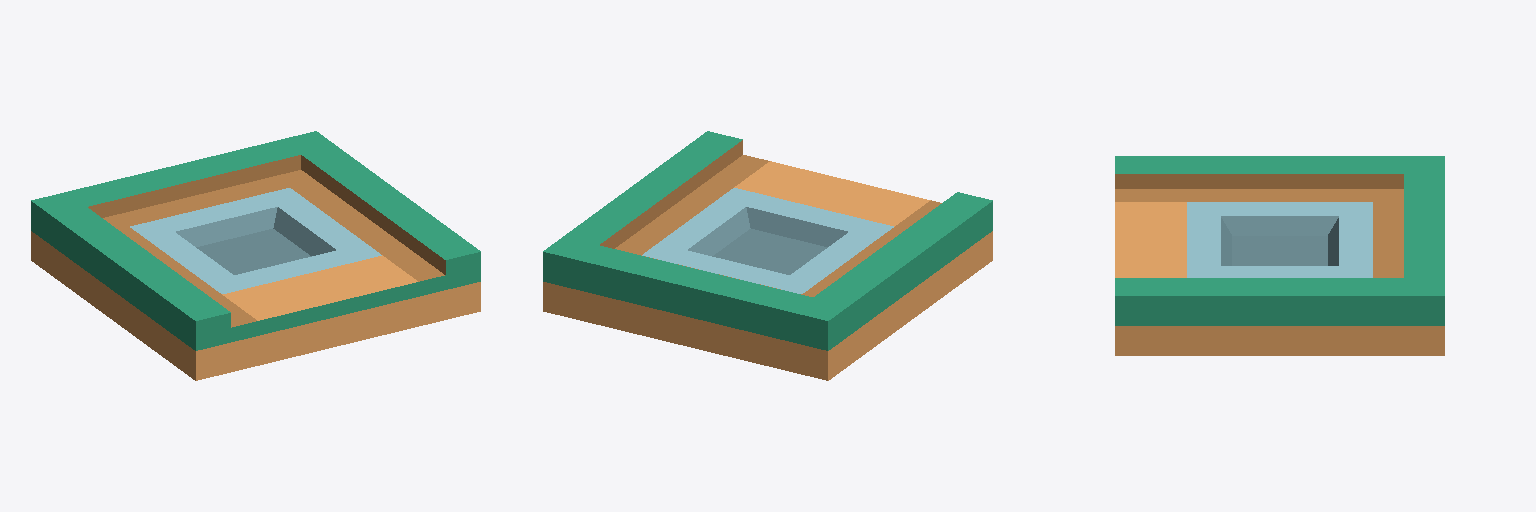
File: tile_endSpawn.obj
3 views of the same model, side by side, from view 1: azimuth 30°, elevation 25°; view 2: azimuth 150°, elevation 25°; view 3: azimuth 270°, elevation 25° (orthographic).
Visible parts, largest first — view 1: tile_endSpawn; view 2: tile_endSpawn; view 3: tile_endSpawn.
Boxes of the visible parts, x1=… form: tile_endSpawn: x1=31, y1=131, x2=480, y2=380; tile_endSpawn: x1=543, y1=131, x2=992, y2=380; tile_endSpawn: x1=1115, y1=156, x2=1444, y2=355.
Size of the model in its own units: 1 by 0.2 by 1.